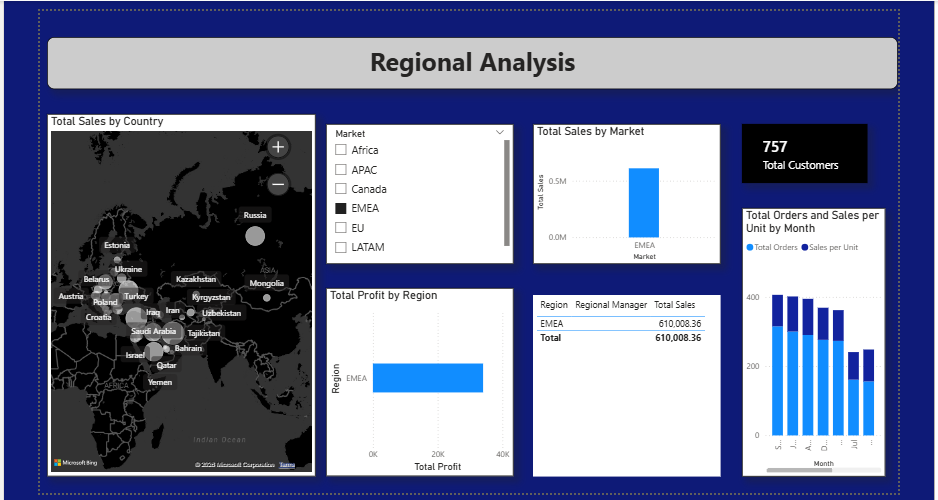

The page's visual inventory and layout, read from the dashboard file:
{"tool":"powerbi","page":{"name":"03_Regional_Analysis","canvas":[1280,720],"ordinal":2},"visuals":[{"type":"map","fields":{"Category":["FactOrders.Country"],"Size":["Table.Total Sales"]},"box":[10.2,153.7,401,541.5],"z":0},{"type":"barChart","fields":{"Category":["DimRegion.Region"],"Y":["Table.Total Profit"]},"box":[427.3,414.1,279.5,281],"z":1},{"type":"clusteredColumnChart","fields":{"Category":["FactOrders.Market"],"Y":["Table.Total Sales"]},"box":[736.1,168.3,279.5,209.3],"z":2},{"type":"tableEx","fields":{"Values":["DimRegion.Region","DimRegionalManager.Regional Manager","Table.Total Sales"]},"box":[735.7,424.3,280,271.4],"z":3},{"type":"cardVisual","fields":{"Data":["Table.Total Customers"]},"box":[1047.8,168.3,187.3,87.8],"z":4},{"type":"slicer","fields":{"Values":["FactOrders.Market"]},"box":[427.3,168.3,279.5,209.3],"z":5},{"type":"textbox","box":[10.2,39.5,1270.2,77.6],"z":6},{"type":"columnChart","fields":{"Y":["Table.Total Orders","Table.Sales per Unit"],"Category":["DimDate.Month"]},"box":[1047.1,294.3,214.3,401.4],"z":7}]}

Visuals, with their boxes in screenshot pixels (x1, y1, x2, y2):
map - FactOrders.Country x Table.Total Sales: bbox=(48, 111, 314, 470)
barChart - DimRegion.Region x Table.Total Profit: bbox=(324, 284, 509, 470)
clusteredColumnChart - FactOrders.Market x Table.Total Sales: bbox=(529, 121, 713, 260)
tableEx - DimRegion.Region x DimRegionalManager.Regional Manager: bbox=(528, 290, 713, 470)
cardVisual - Table.Total Customers: bbox=(735, 121, 859, 179)
slicer - FactOrders.Market: bbox=(324, 121, 509, 260)
textbox: bbox=(48, 36, 889, 87)
columnChart - Table.Total Orders x Table.Sales per Unit: bbox=(734, 204, 876, 470)
